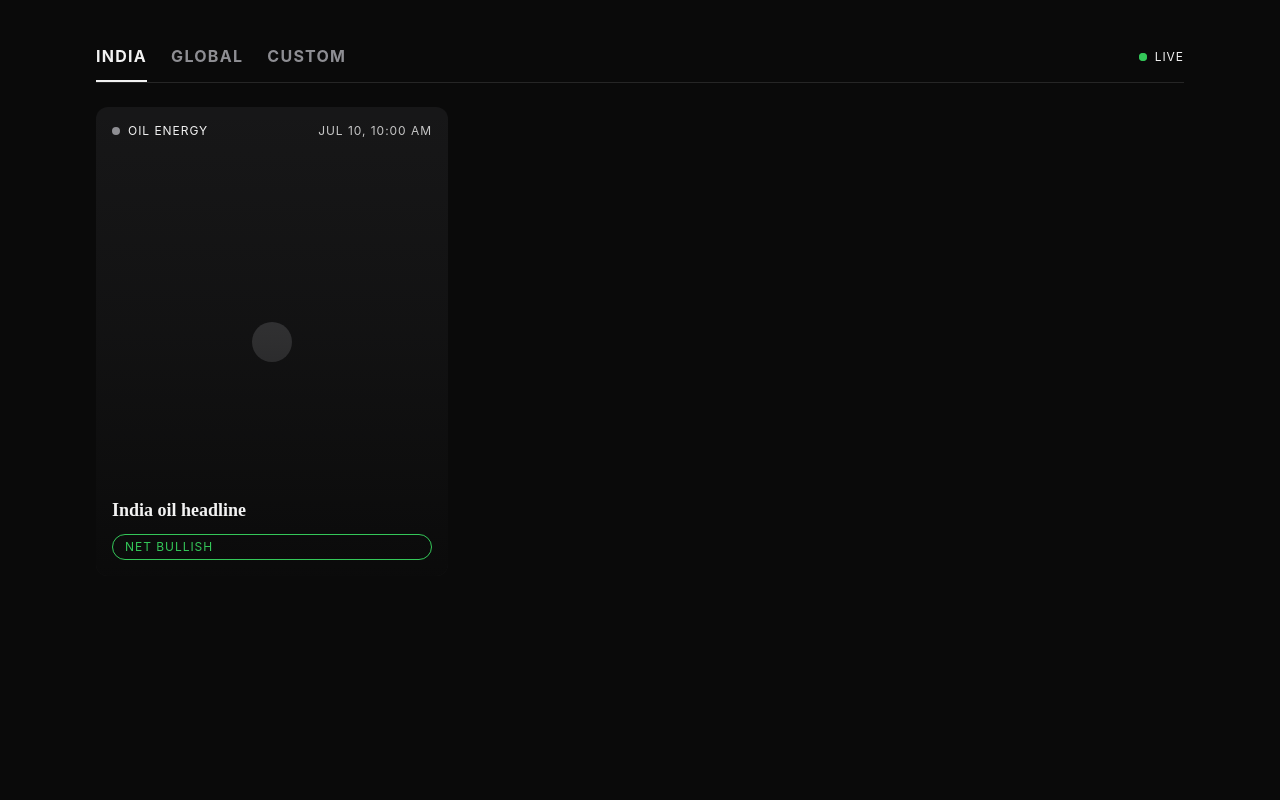
Test case: Feed › Custom tab settings gear opens the filter editor in a sheet
The image size is (1280, 800).
Click the tab "Custom". click: (307, 63)
box: [267, 44, 346, 82]
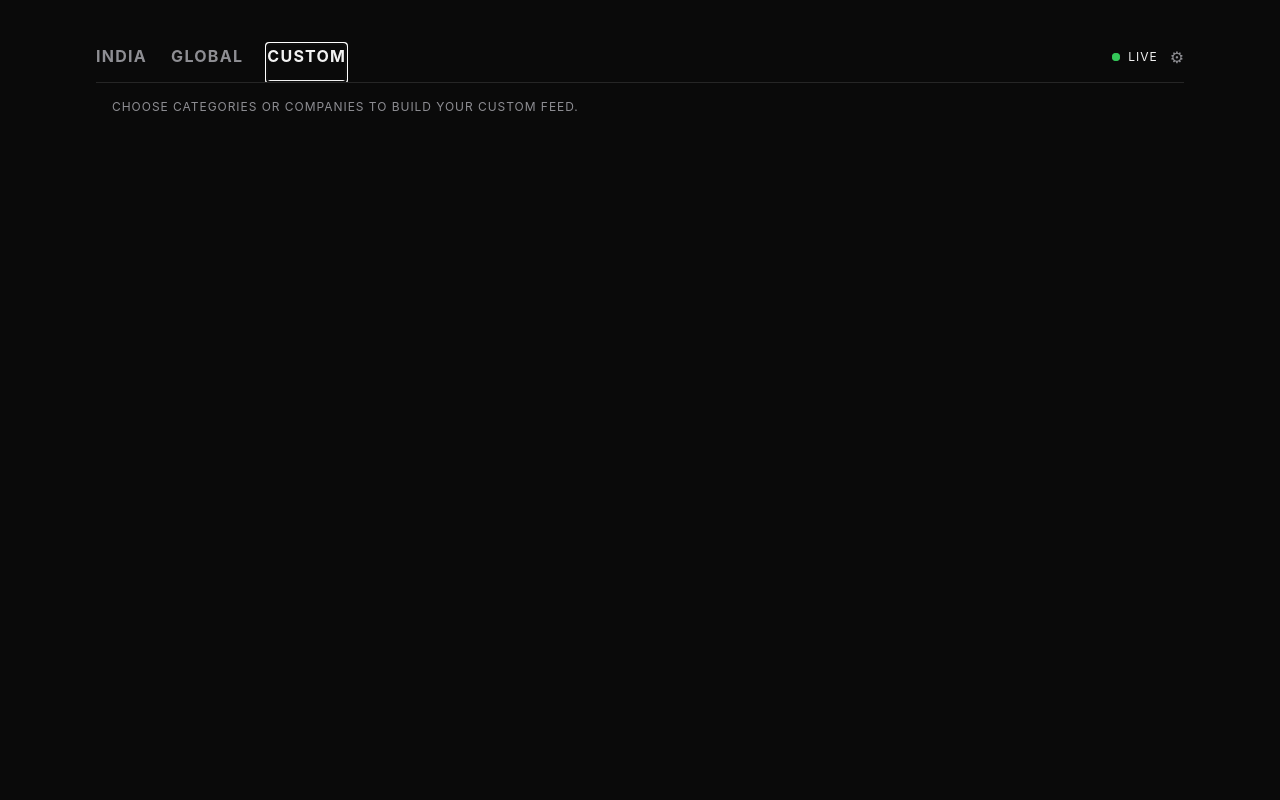
Click the button named "custom feed settings". click: (1177, 57)
box: [1170, 45, 1184, 69]
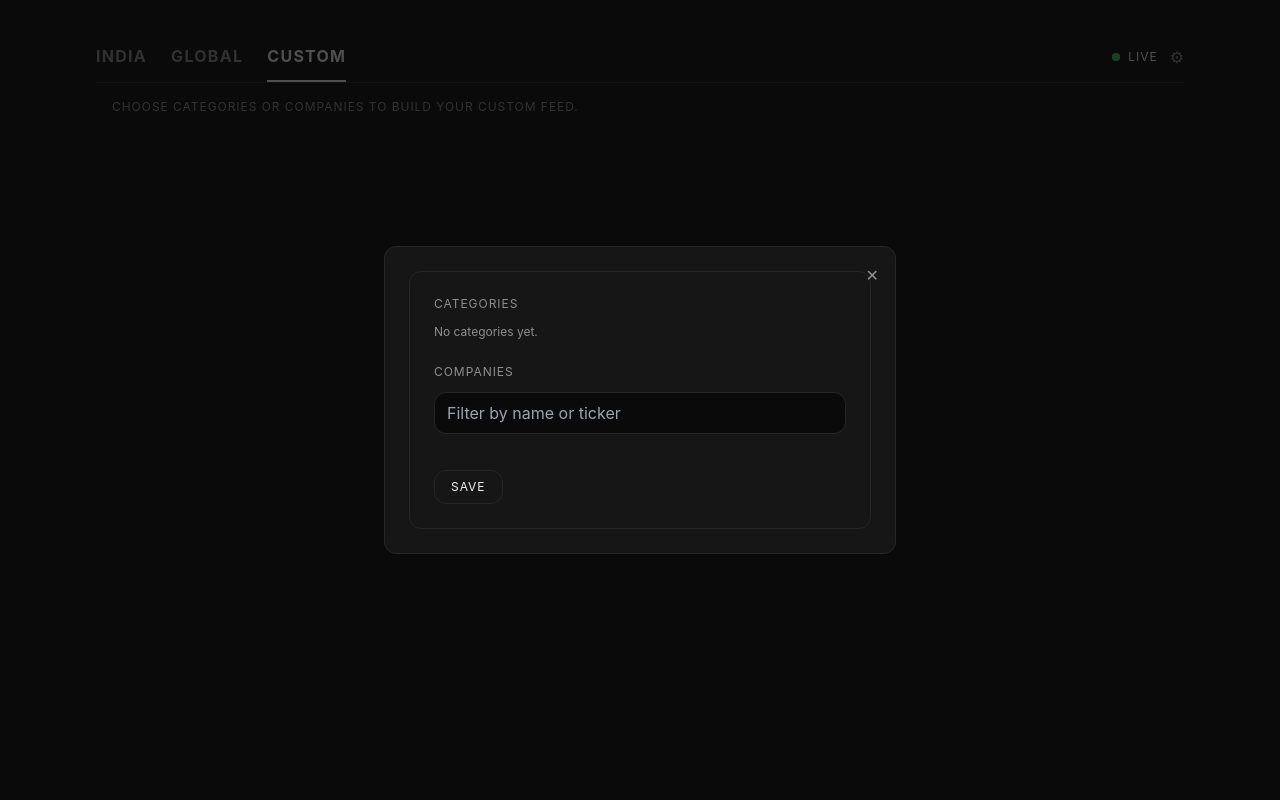
Result: the button "Save" is shown at [434, 470, 502, 504]
